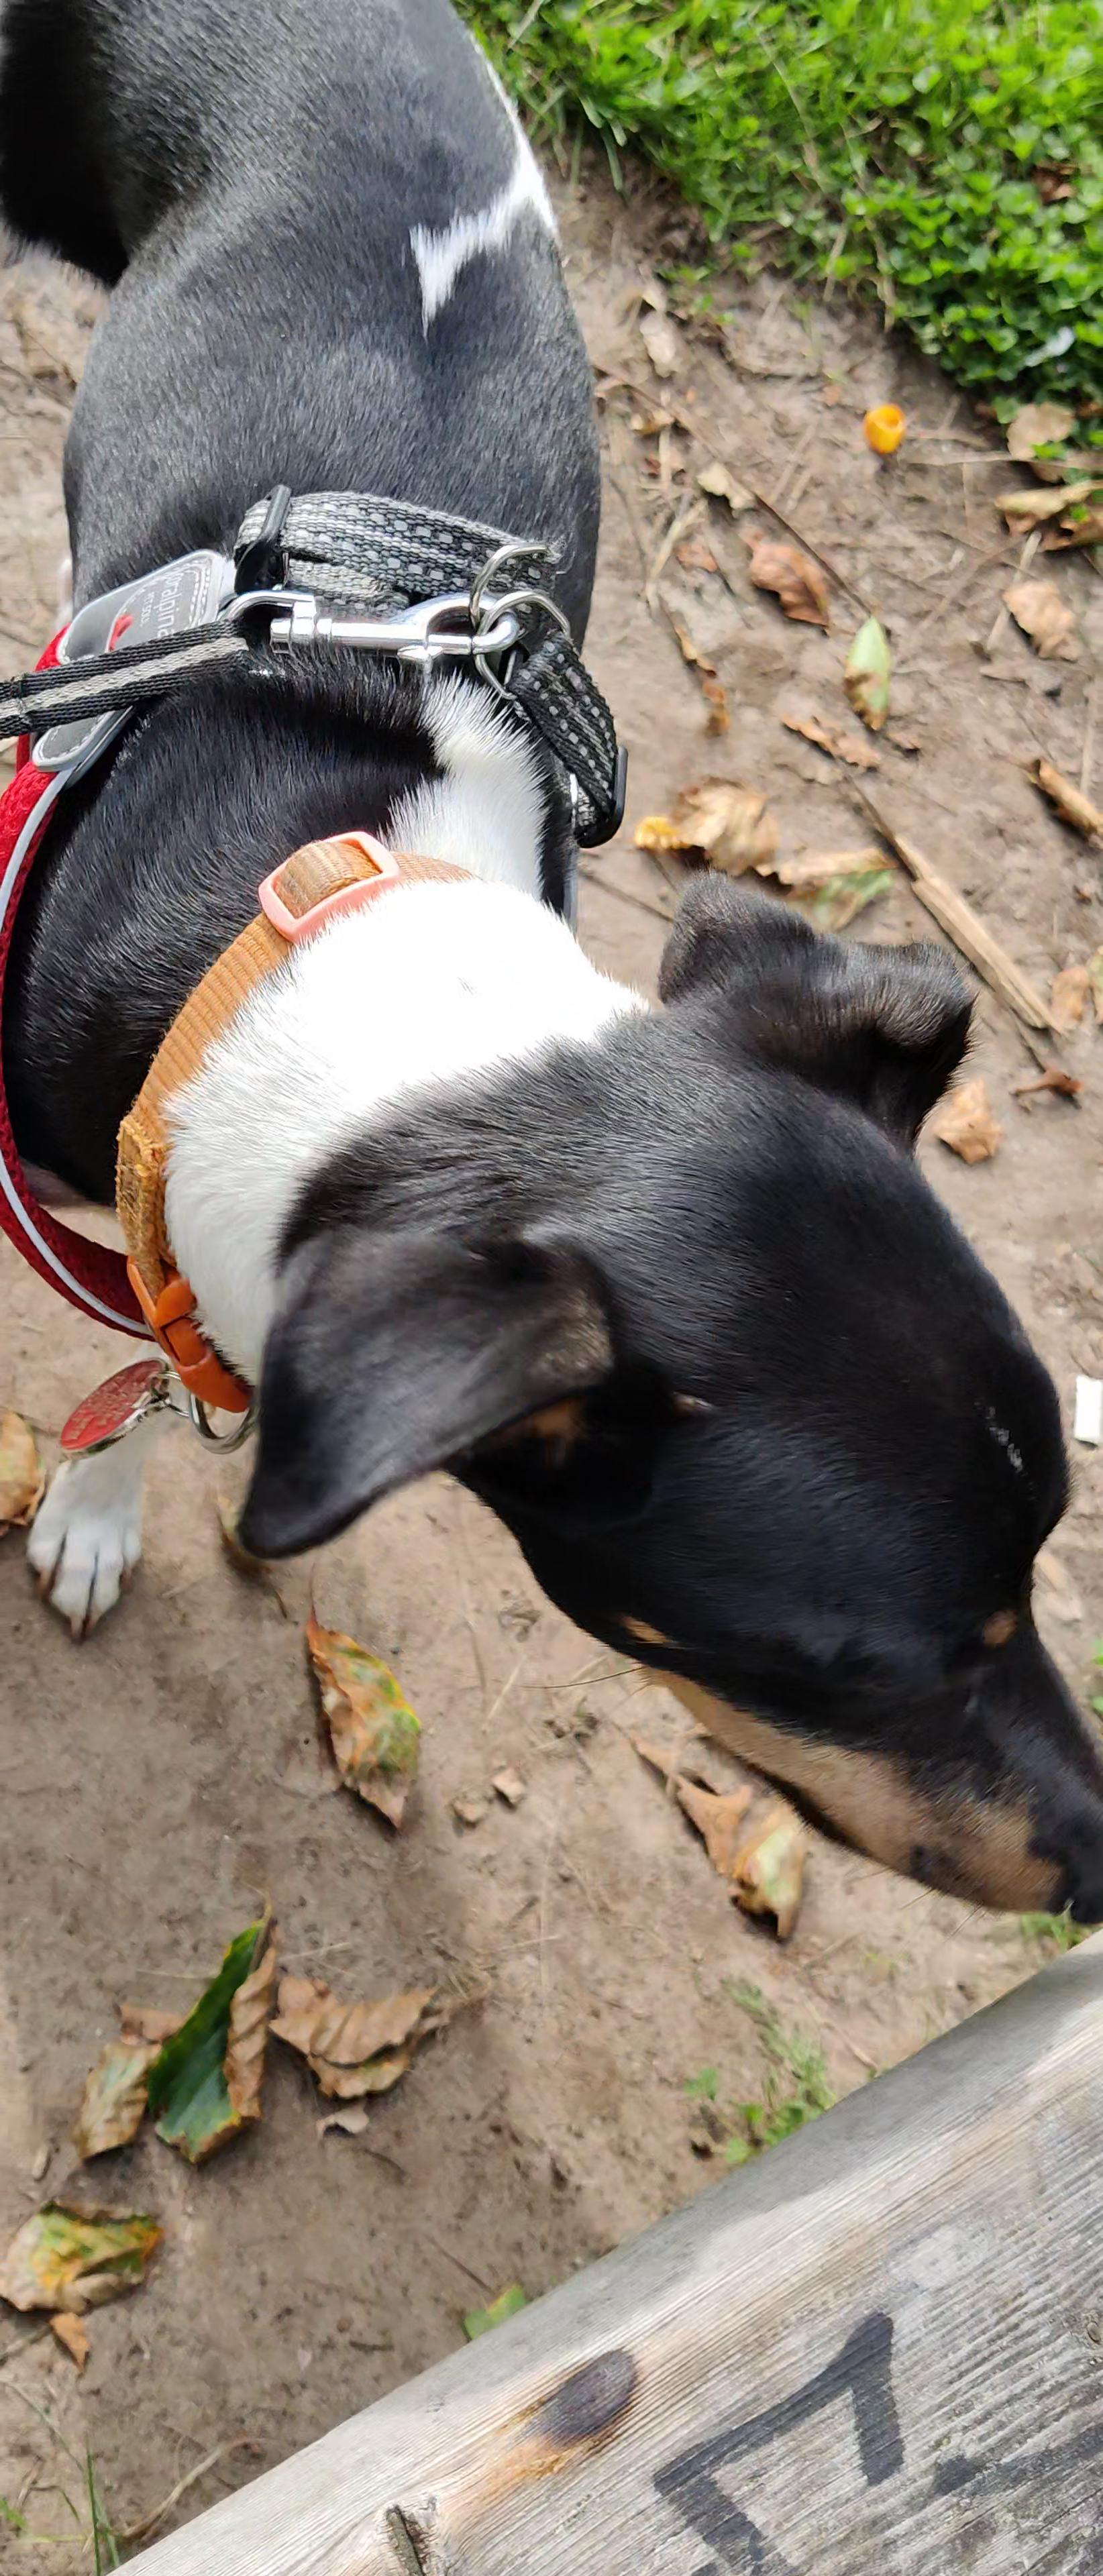Dog: (0, 0, 1103, 1943)
